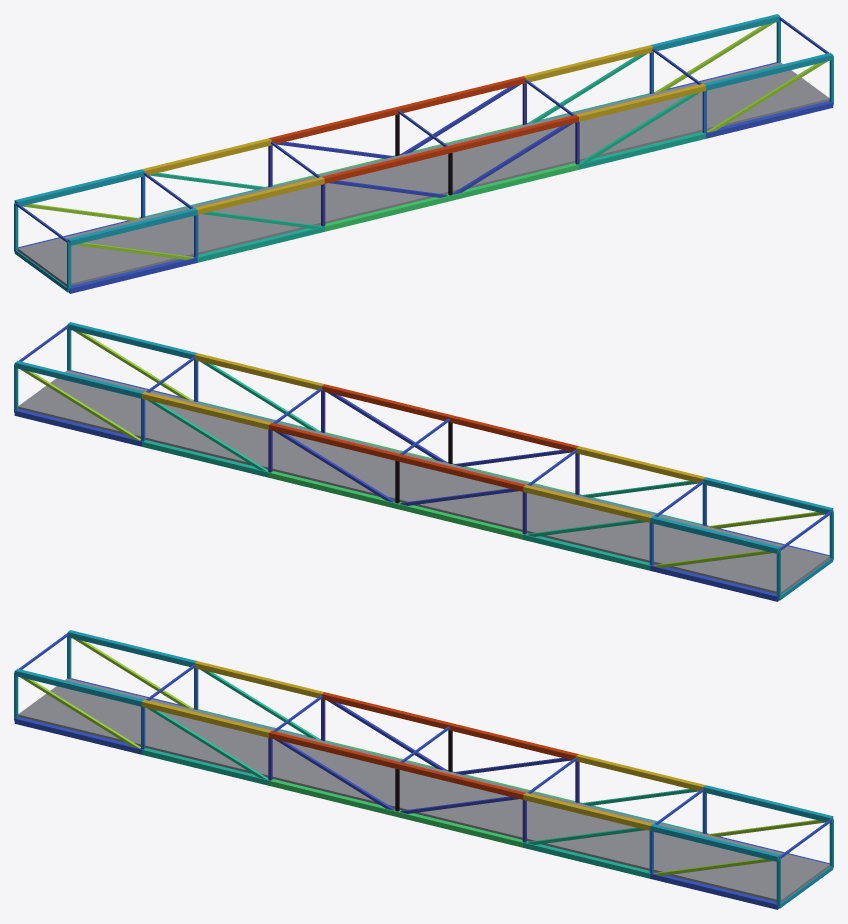
File: 25_1.5_6_HEA200.glb
3 renders of one model, top to bottom at view 1: azimuth 30°, elevation 25°; view 2: azimuth 150°, elevation 25°; view 3: azimuth 330°, elevation 25°, orthographic.
Size of the model in its own units: 25.09 by 1.66 by 3.16.
